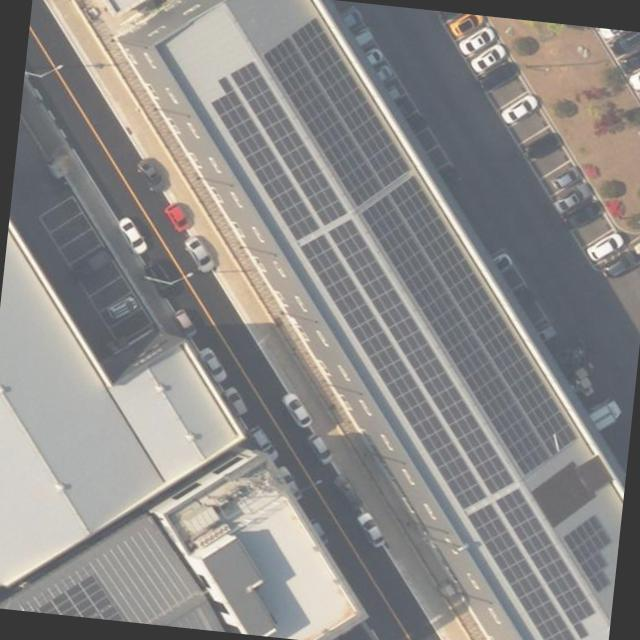solar: (332, 190, 580, 482), (365, 170, 605, 457), (274, 230, 515, 512), (304, 218, 540, 500), (274, 14, 429, 192), (247, 34, 401, 210), (215, 60, 364, 228), (188, 74, 334, 244), (454, 501, 600, 640), (481, 486, 611, 640), (558, 506, 618, 596)
